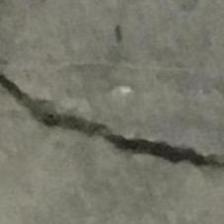Crack: (0, 70, 223, 177)
